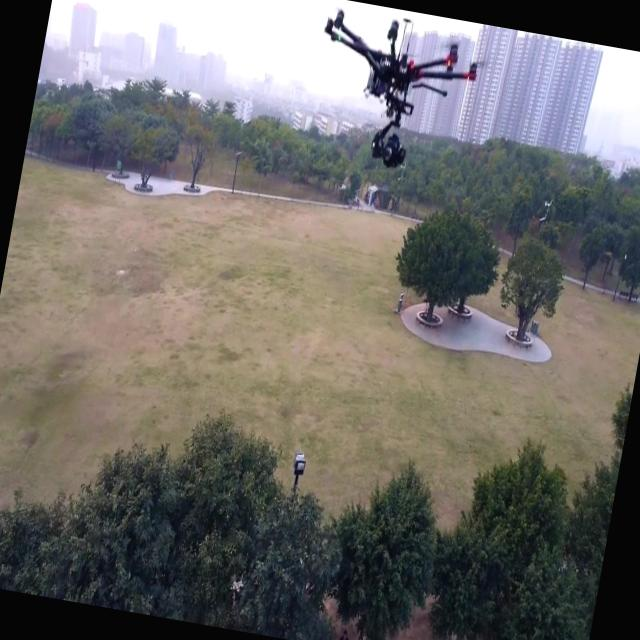drone: (300, 1, 484, 182)
